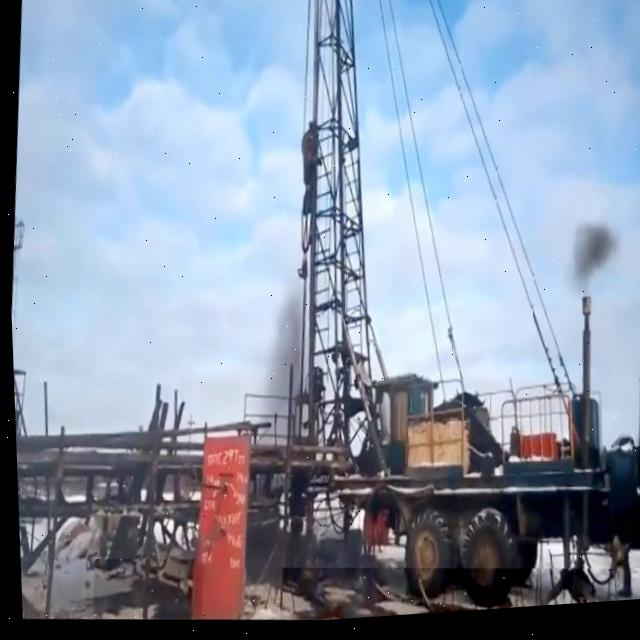spillage: (275, 571, 606, 624), (89, 560, 199, 621)
